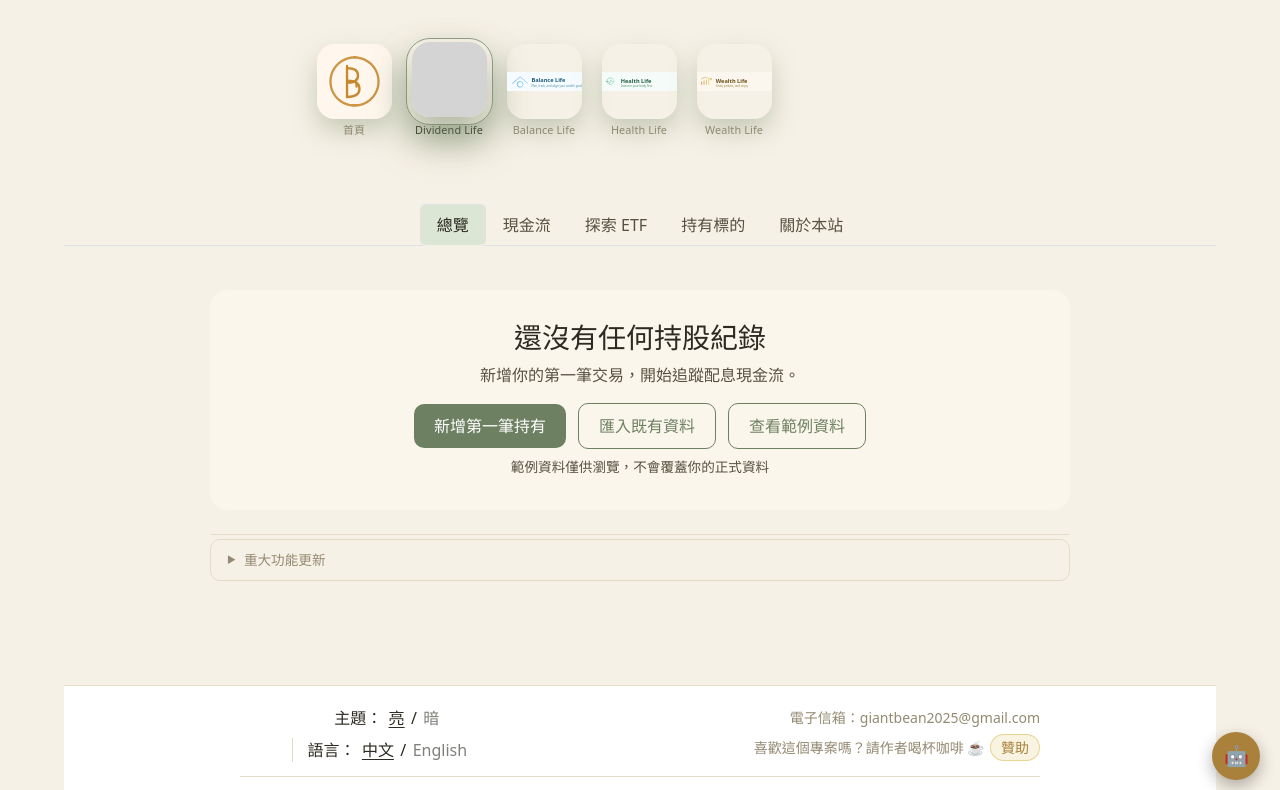
Test: a genuinely valid, non-zero yield still shows its percentage in the Explore tab calendar tooltip
Click the tab "探索 ETF": [616, 225] box [568,204,664,246]
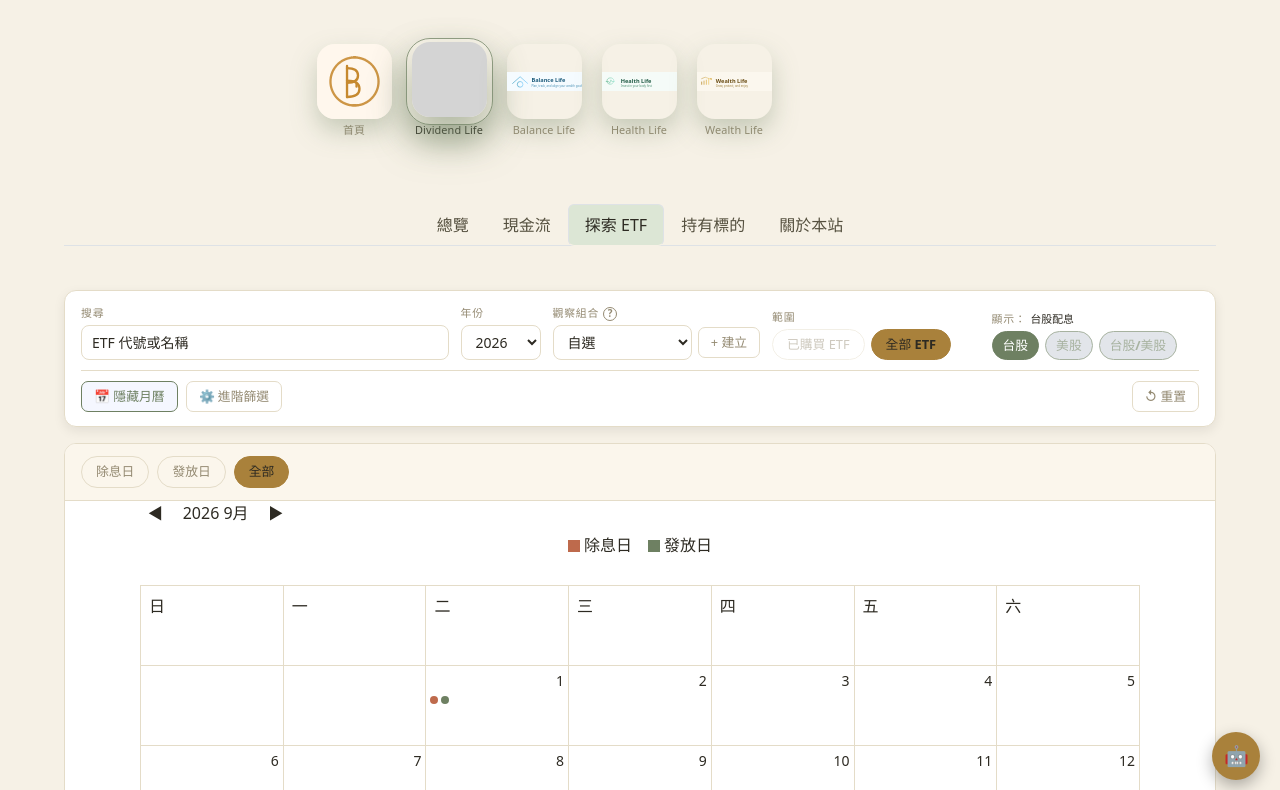
expect the 2nd element with class "tooltip-text" is shown: met, box [430,696,438,704]
